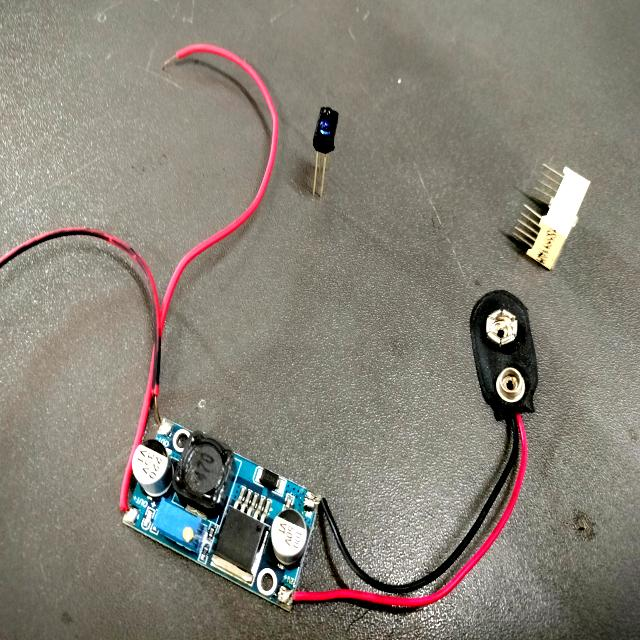7-Segment-Display: (506, 150, 594, 278)
Buck-Converter: (112, 405, 330, 623)
TCRT5000: (303, 102, 342, 207)
